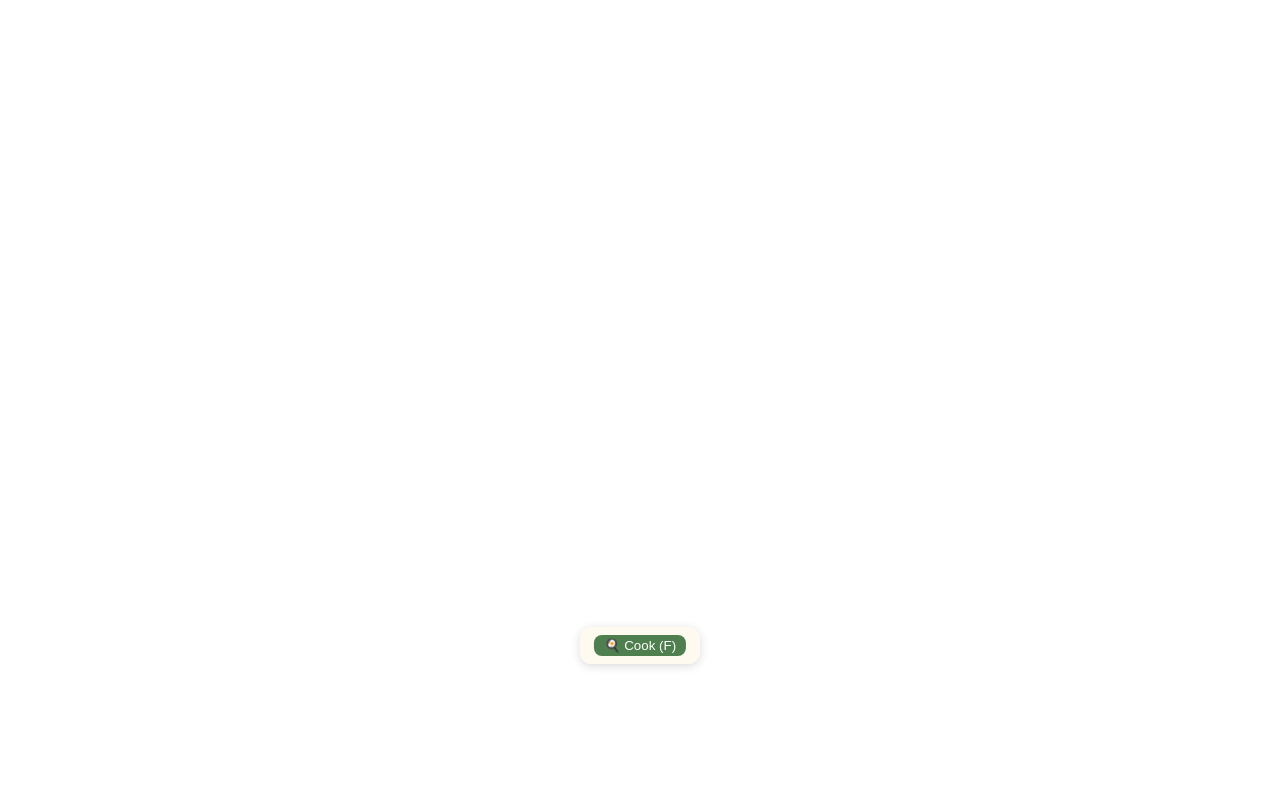
Test: food layer (build plan M29) › acceptance: the kitchen shows the learned recipe as a card in the target language and cooks it
Later steps or results of the test are not shown.
Click the button "🍳 Cook (F)".
click(640, 646)  # box [594,635,686,656]
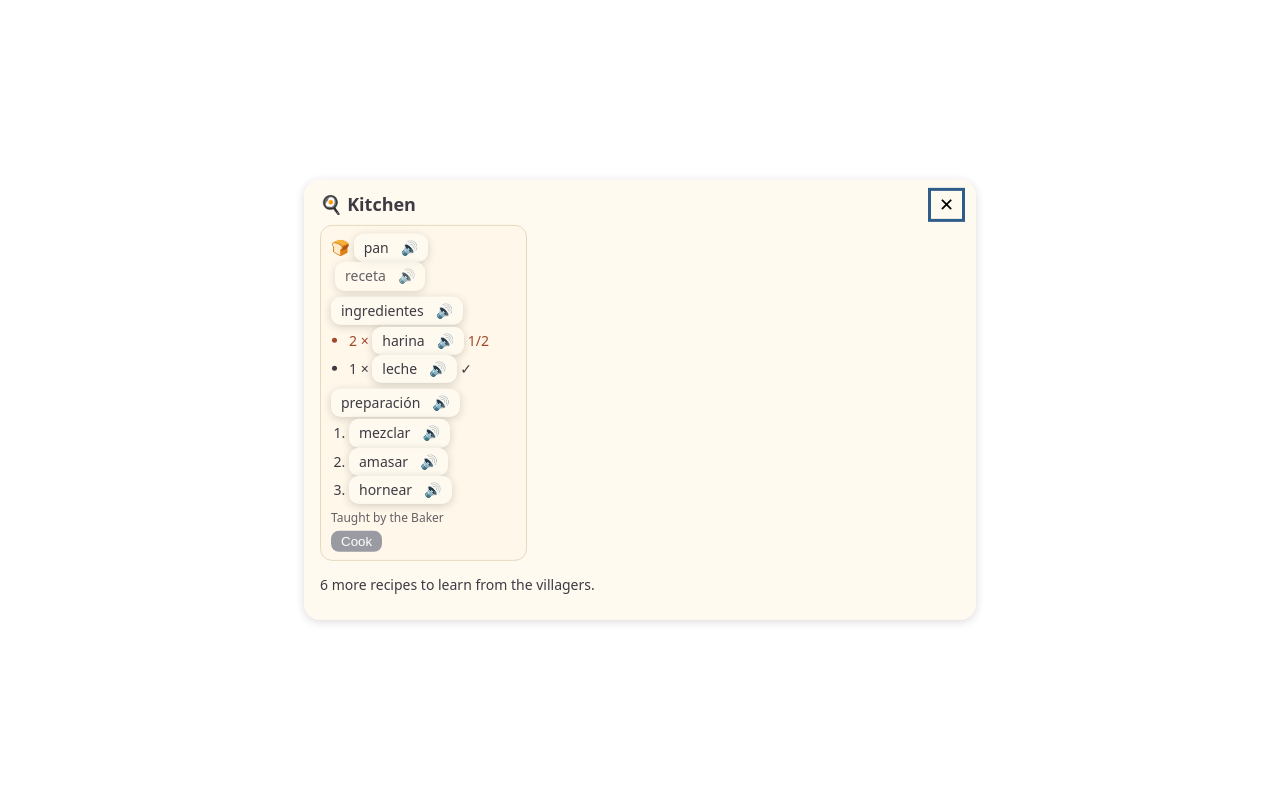
Expected: the text "pan" is shown, [364,239,389,257]
Expected: the text "receta" is shown, [345,267,386,285]
Expected: the text "ingredientes" is shown, [341,301,424,320]
